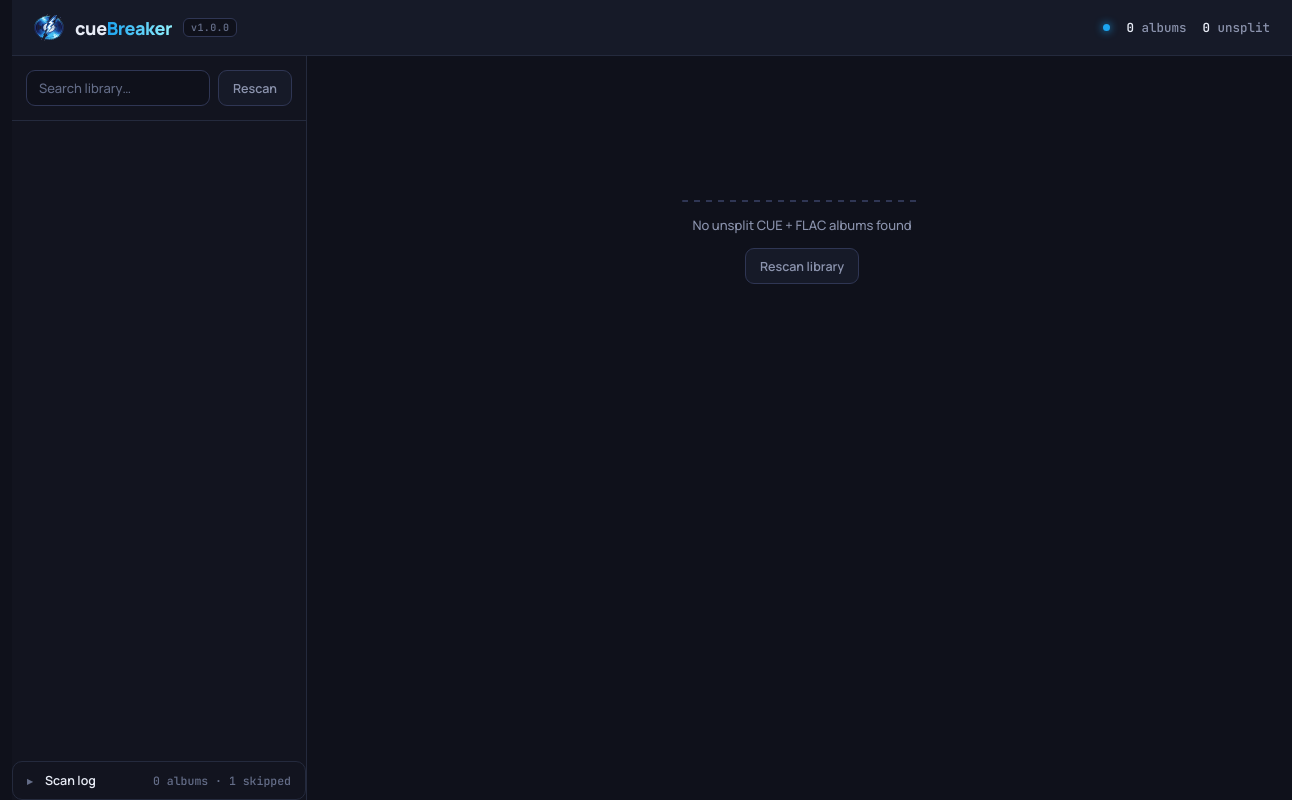
Test: App › leaves the previous scan log in place when a rescan fails
expect the text "No unsplit CUE + FLAC albums found" is shown: met, box [692,216,912,234]
Click the button "Rescan": (255, 88) [218,70,292,106]
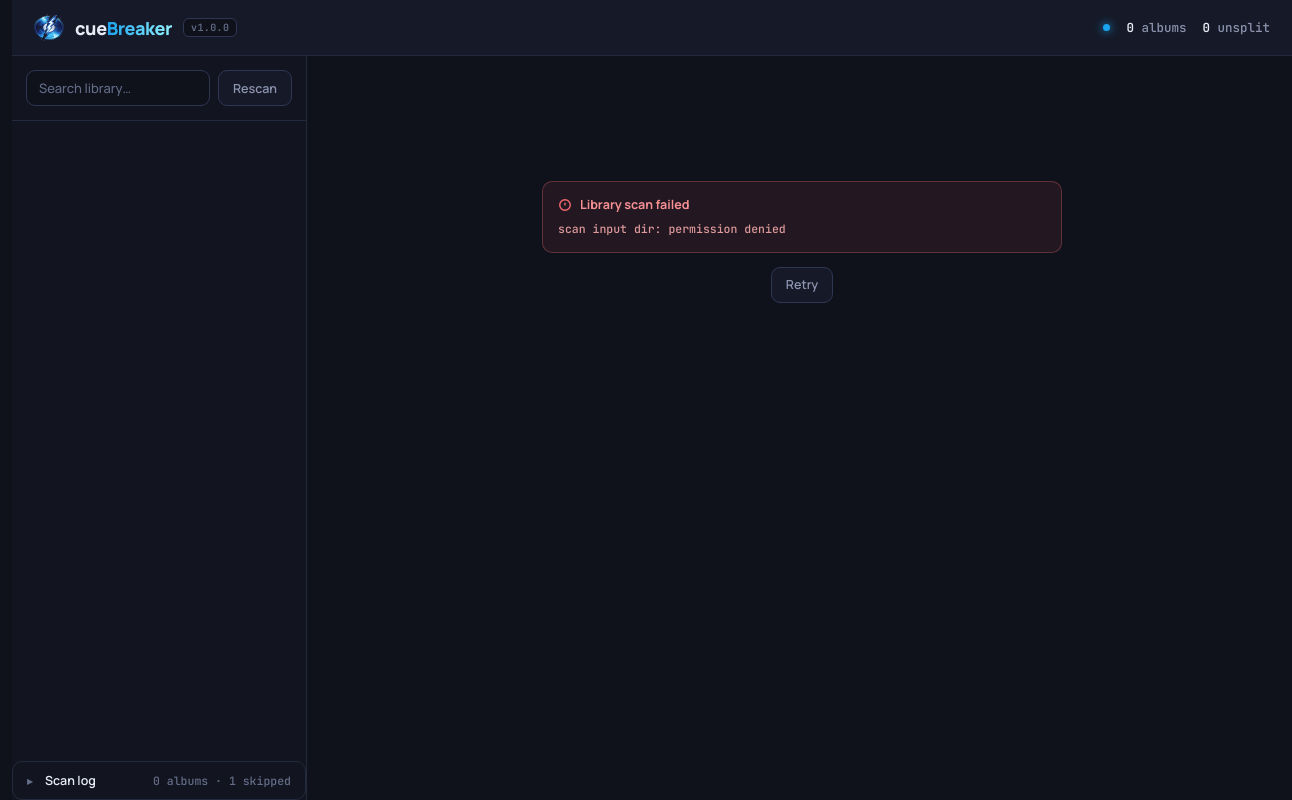
expect the text "Library scan failed" is shown: met, box [558,196,690,213]
Click the button "▸ Scan log 0 albums · 1 skipped": (159, 780) [13,762,305,799]
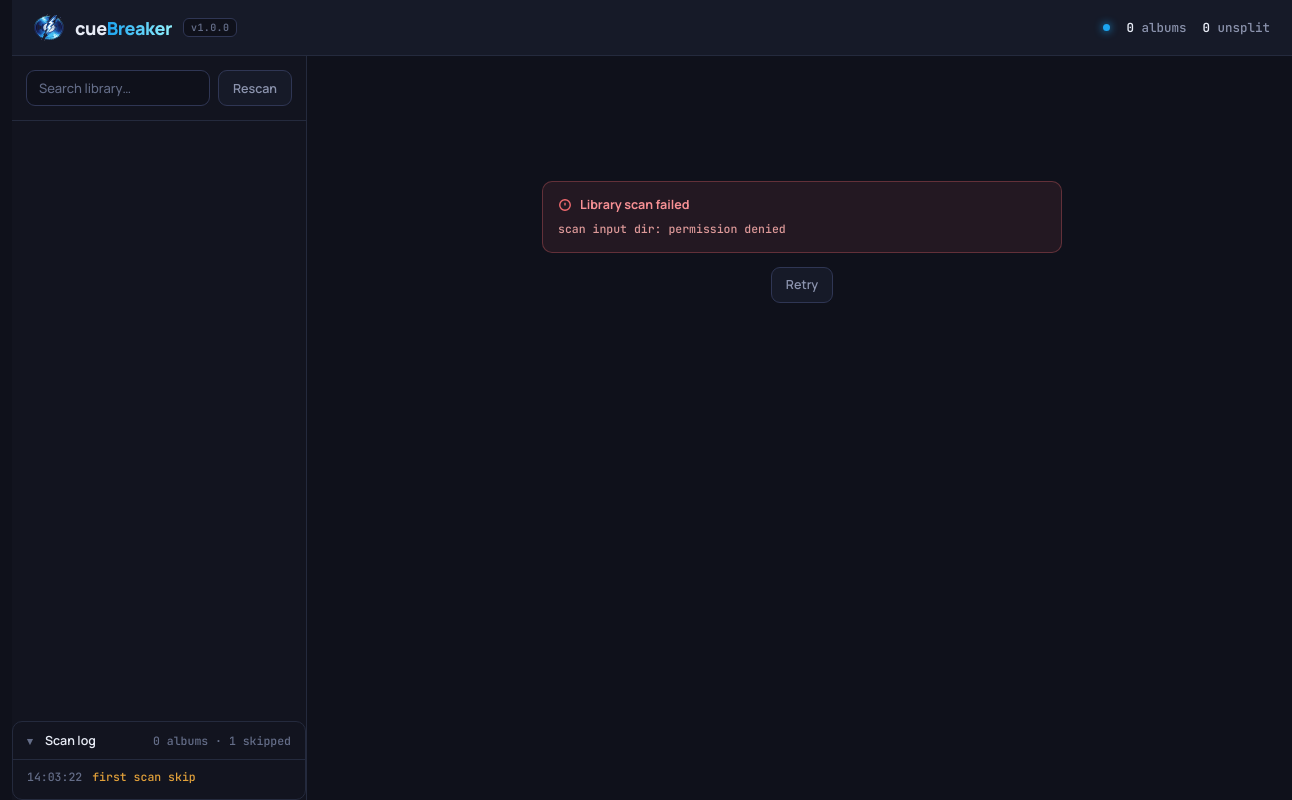
expect the text "first scan skip" is shown: met, box [92,769,196,784]
